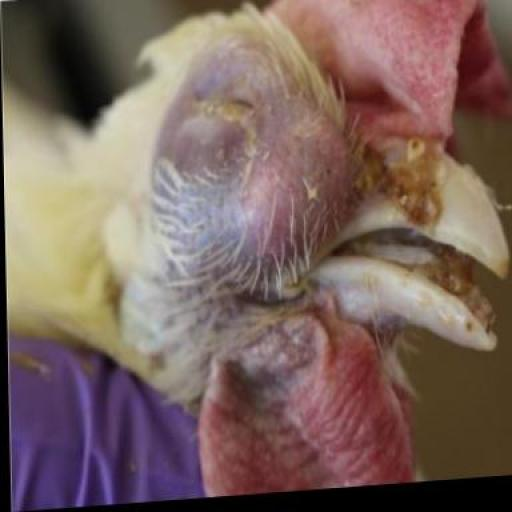disease: (155, 17, 507, 495)
